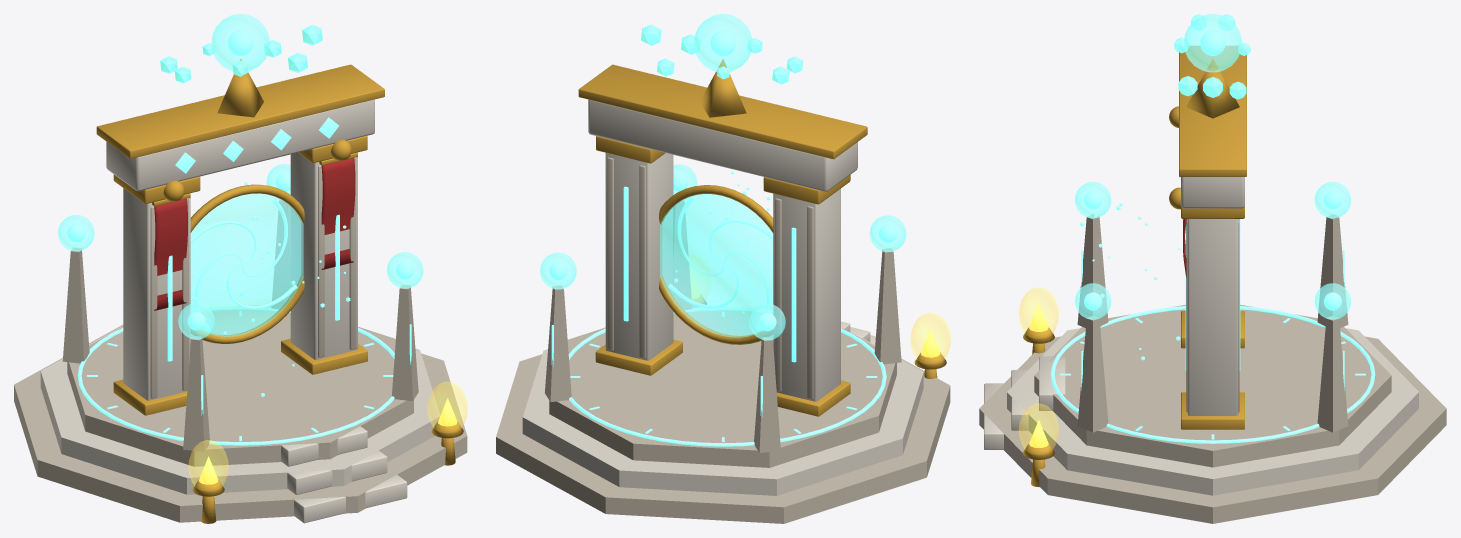
The model's file is asgaard.glb.
3 renders of one model, left to right at view 1: azimuth 30°, elevation 25°; view 2: azimuth 150°, elevation 25°; view 3: azimuth 270°, elevation 25°, orthographic.
Visible parts, largest first — view 1: marble2, marble, gold, ether_veil, ether, team, sun_veil, ether_soft, sun.001; view 2: marble2, marble, ether_veil, gold, ether, ether_soft, sun_veil; view 3: marble2, marble, gold, ether_veil, ether, sun_veil, ether_soft, sun.001.
Part boxes in pixels (left/top/right/bottom): marble2: left=14, top=157, right=467, bottom=522; marble: left=40, top=99, right=440, bottom=523; gold: left=96, top=59, right=463, bottom=523; ether_veil: left=58, top=14, right=423, bottom=339; ether: left=67, top=30, right=414, bottom=445; team: left=154, top=158, right=355, bottom=310; sun_veil: left=188, top=382, right=467, bottom=490; ether_soft: left=160, top=24, right=322, bottom=83; sun.001: left=199, top=398, right=457, bottom=484; marble2: left=496, top=157, right=950, bottom=523; marble: left=522, top=99, right=923, bottom=495; ether_veil: left=540, top=14, right=906, bottom=340; gold: left=578, top=59, right=946, bottom=416; ether: left=549, top=30, right=897, bottom=446; ether_soft: left=641, top=24, right=803, bottom=84; sun_veil: left=910, top=313, right=950, bottom=363; marble2: left=979, top=214, right=1446, bottom=523; marble: left=984, top=177, right=1418, bottom=495; gold: left=1023, top=46, right=1246, bottom=486; ether_veil: left=1075, top=14, right=1350, bottom=319; ether: left=1050, top=30, right=1375, bottom=443; sun_veil: left=1019, top=287, right=1058, bottom=454; ether_soft: left=1174, top=14, right=1250, bottom=99; sun.001: left=1029, top=303, right=1048, bottom=447.
Bounding box in the file's own units: 5.1 × 4.93 × 5.1.
